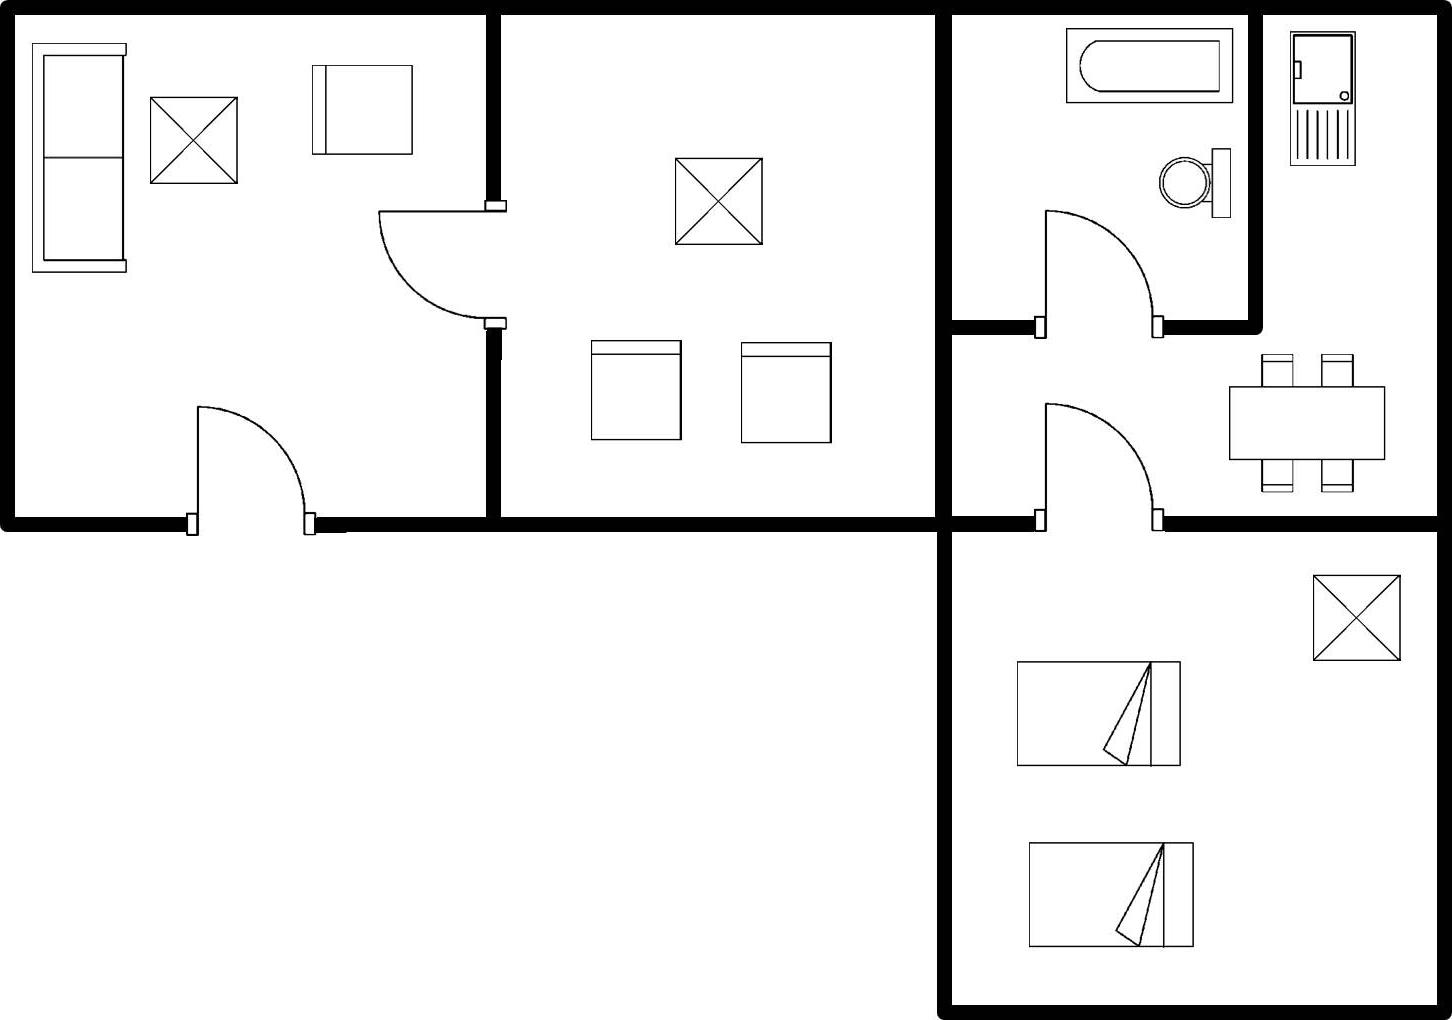bed: (1008, 652, 1191, 775), (1024, 832, 1204, 956)
dining_table: (1214, 346, 1396, 502)
sink: (1283, 22, 1365, 176)
sofa: (21, 34, 134, 280)
toilet: (1154, 136, 1241, 226)
tub: (1056, 22, 1240, 113)
